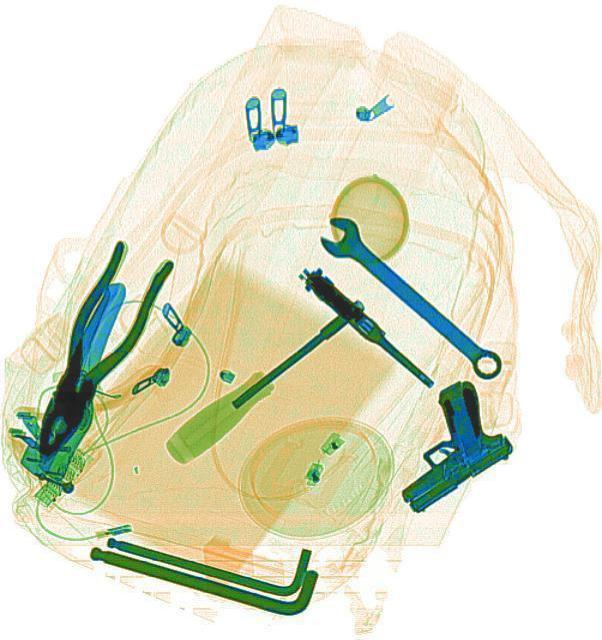Gun: (360, 372, 519, 518)
Pliers: (15, 236, 172, 469)
Wrench: (309, 207, 508, 389)
